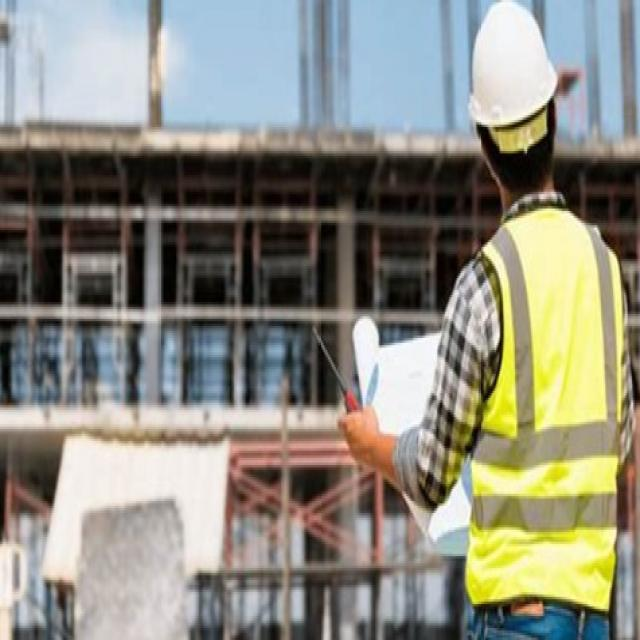not-gloved: (336, 396, 388, 474)
